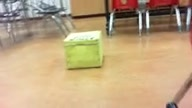cube: (63, 31, 102, 70)
